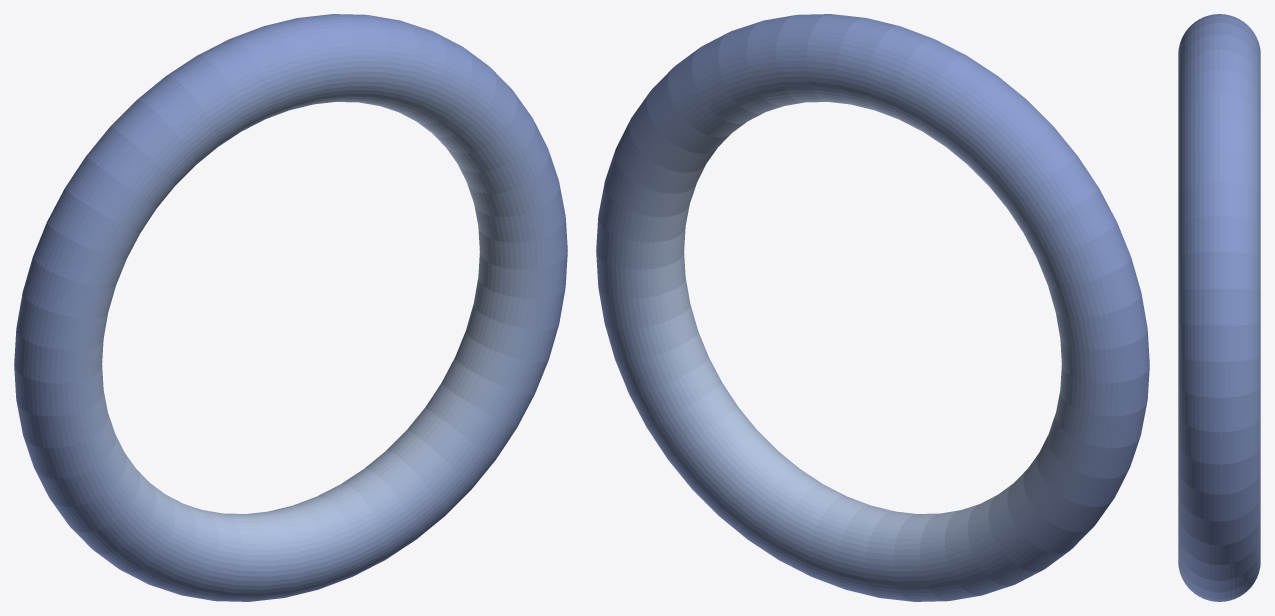
The picture shows the model from 3 angles, left to right: view 1: azimuth 30°, elevation 25°; view 2: azimuth 150°, elevation 25°; view 3: azimuth 270°, elevation 25°; orthographic projection. The views are drawn at different scales.
Visible parts, largest first — view 1: world; view 2: world; view 3: world.
Boxes of the visible parts, bbox=[...] form: world: bbox=[14, 14, 567, 601]; world: bbox=[596, 14, 1149, 601]; world: bbox=[1178, 14, 1260, 601].
Size of the model in its own units: 25.6 by 25.55 by 3.59.
